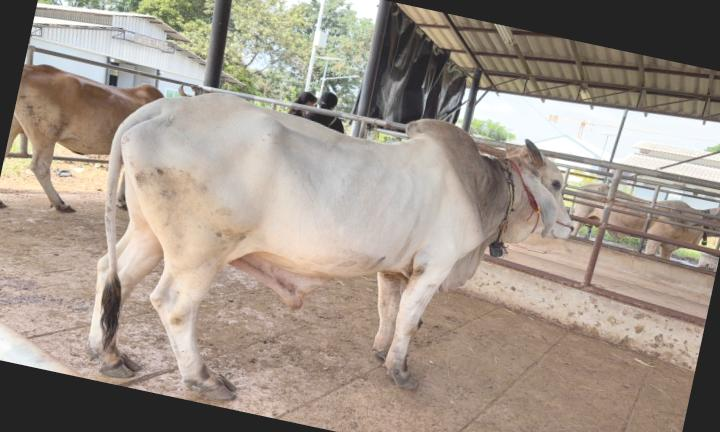Brahman: (88, 94, 571, 399)
